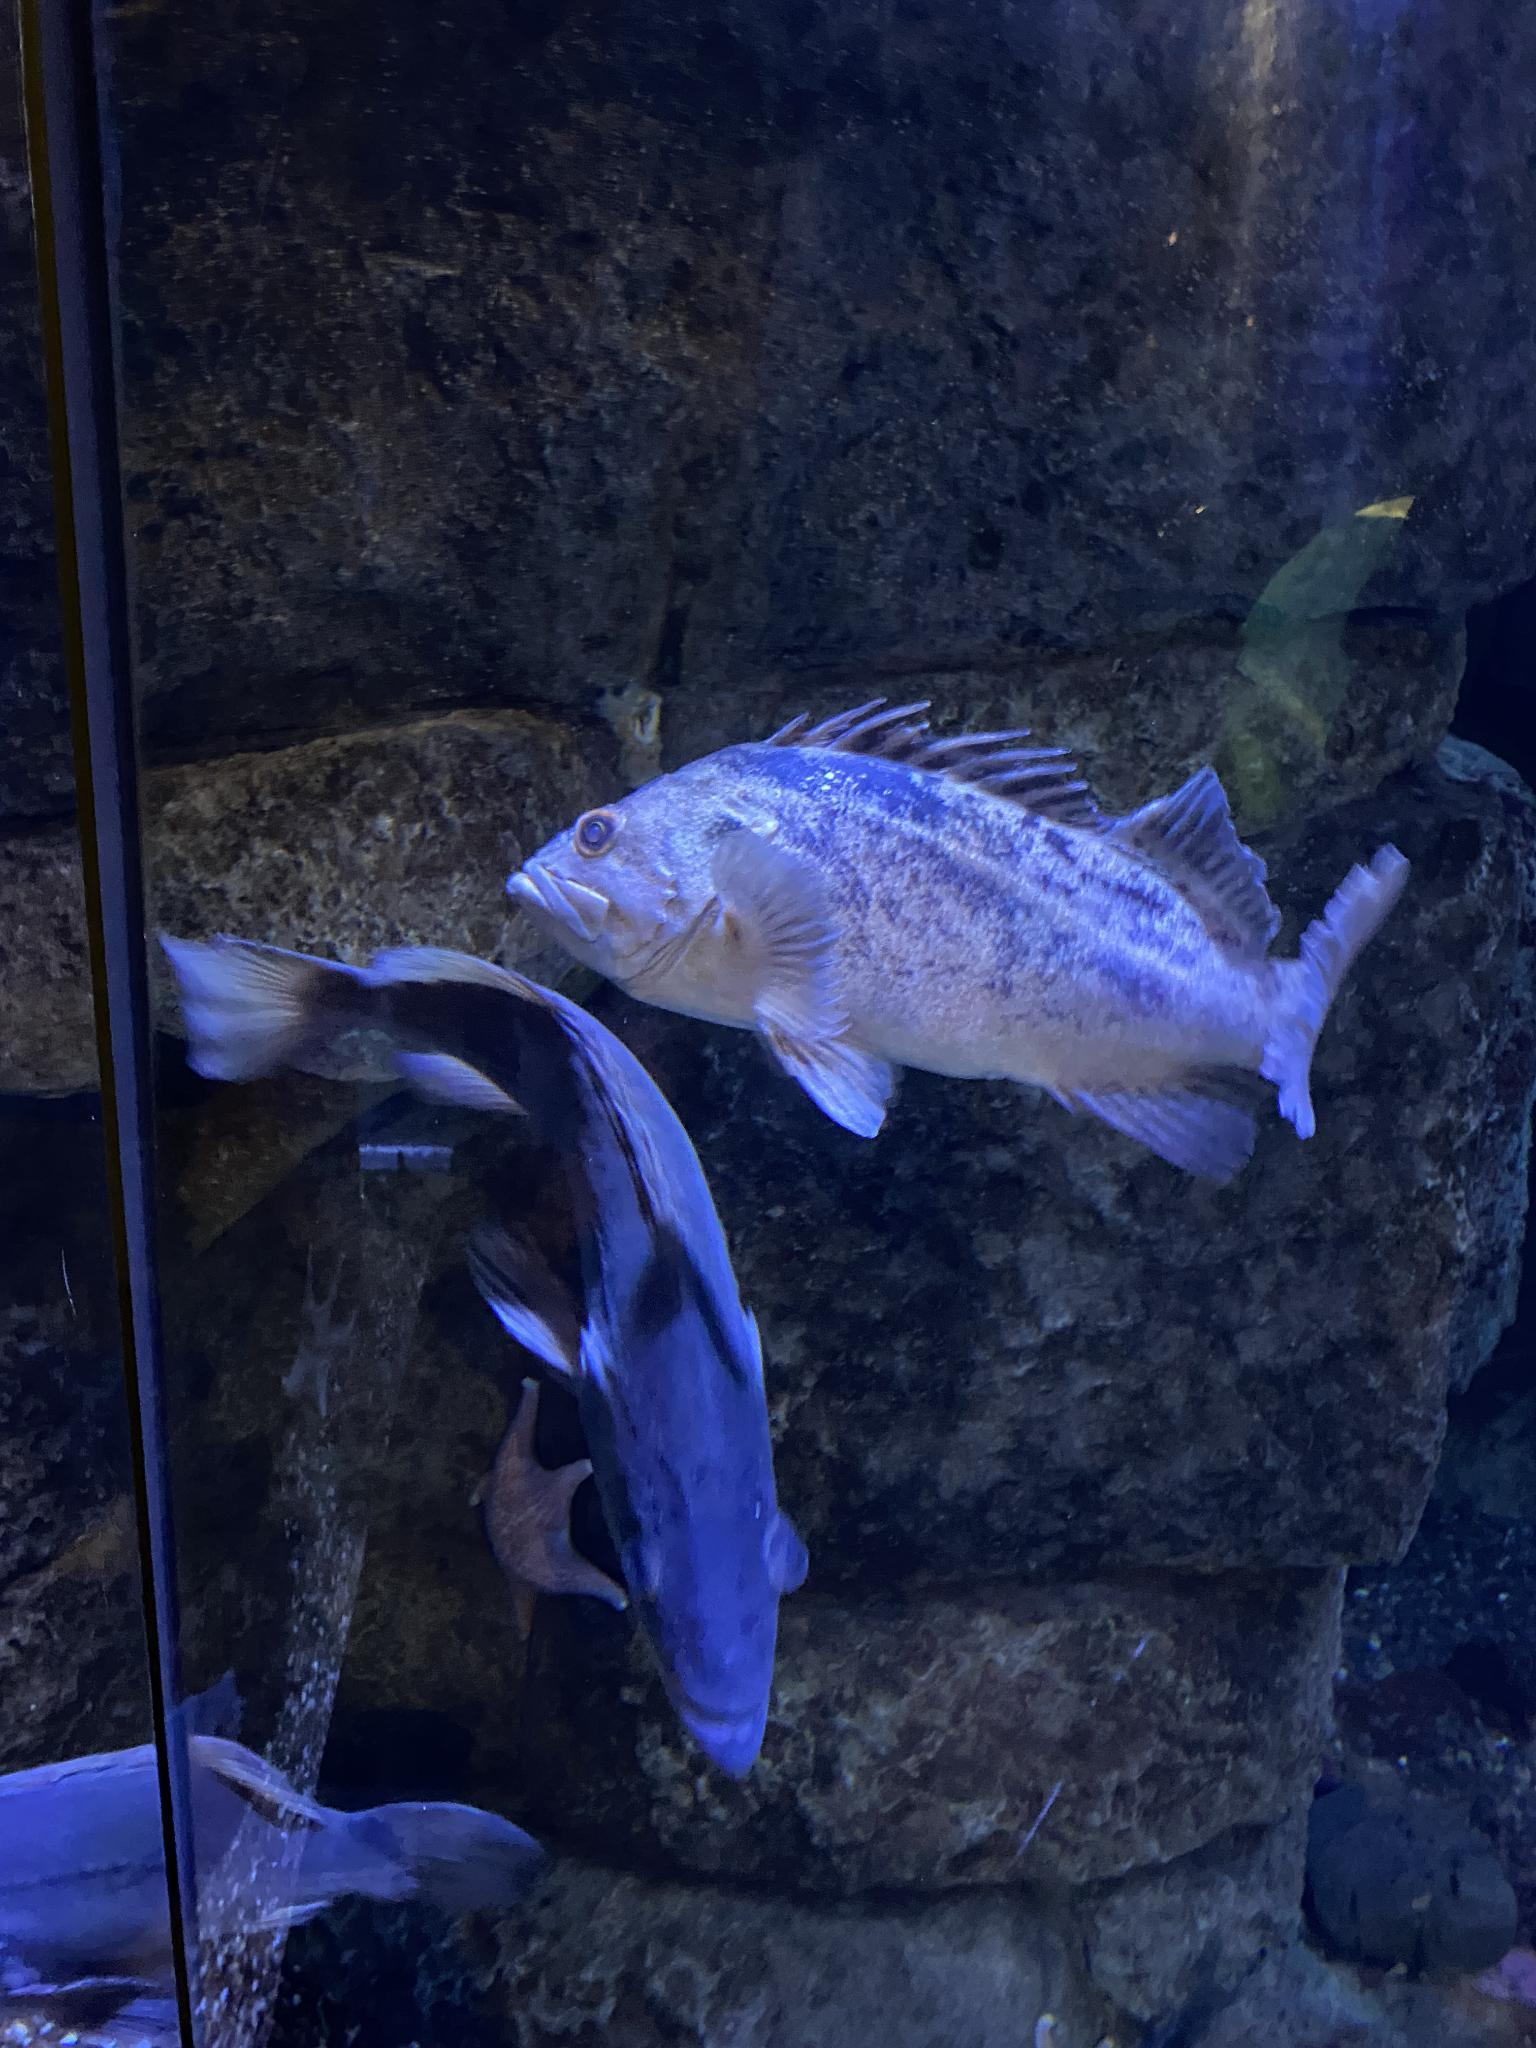fish: (148, 906, 854, 1808), (532, 698, 1373, 1138)
